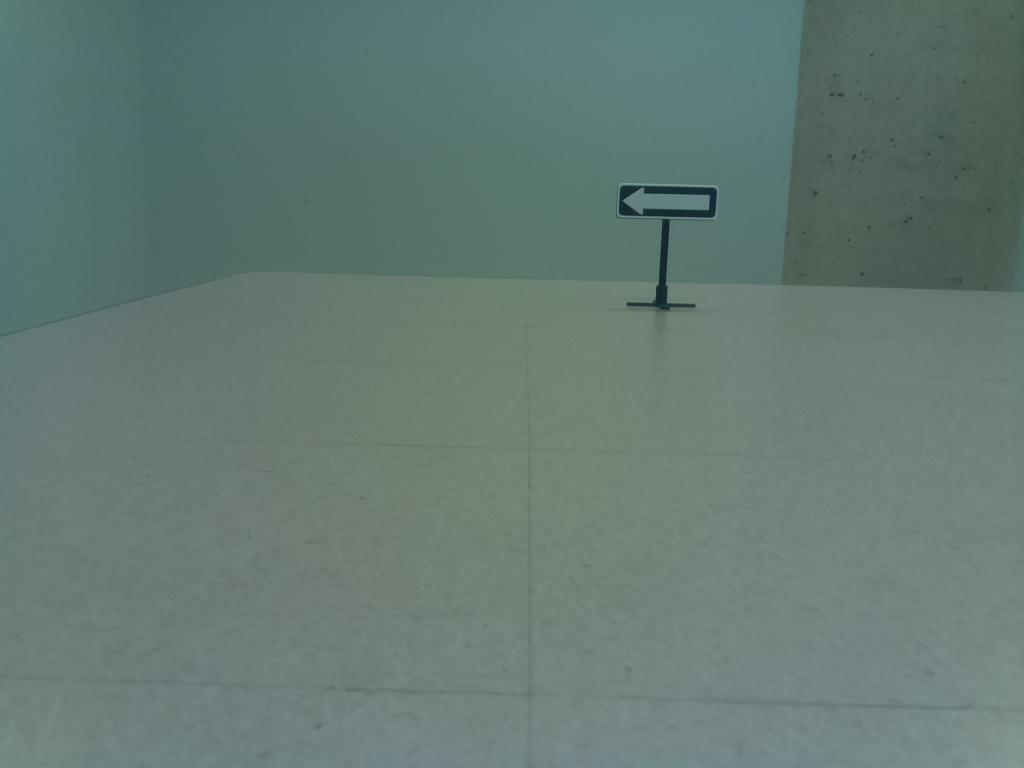sign_oneway_left: (612, 178, 725, 225)
